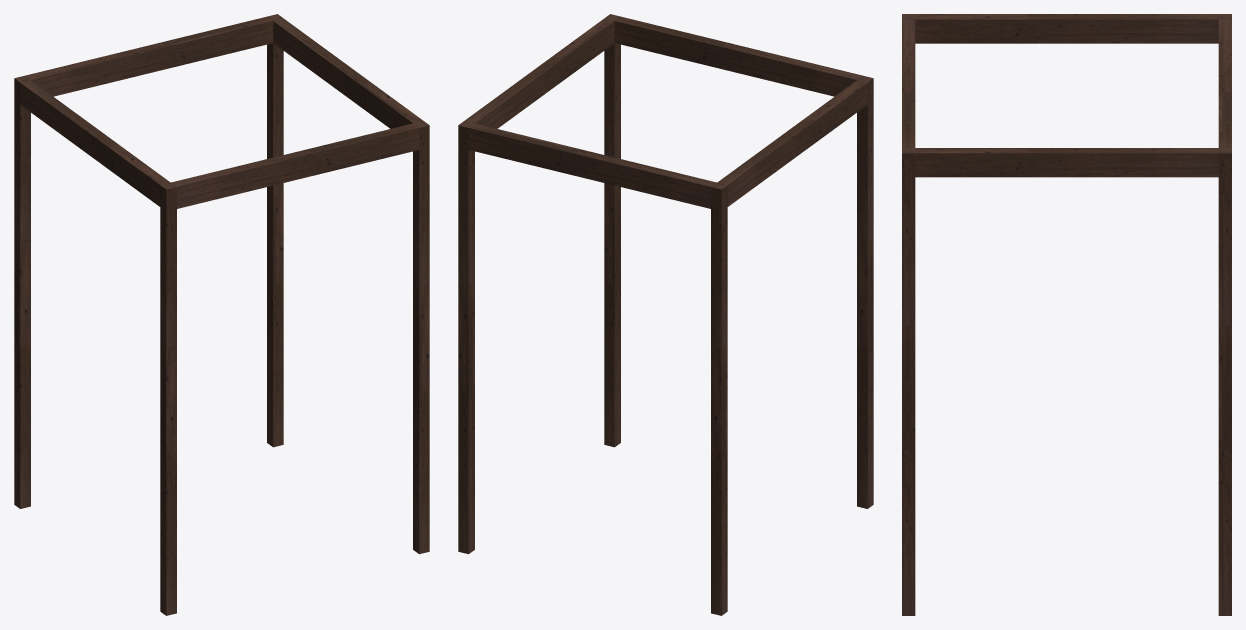
Rendered from fp-dokurtu_1k-6s_darkpine.fbx.
The picture shows the model from 3 angles, left to right: view 1: azimuth 30°, elevation 25°; view 2: azimuth 150°, elevation 25°; view 3: azimuth 270°, elevation 25°; orthographic projection. The views are drawn at different scales.
Visible parts, largest first — view 1: fp-dokurtu_1k-6s_darkpine; view 2: fp-dokurtu_1k-6s_darkpine; view 3: fp-dokurtu_1k-6s_darkpine.
Part boxes in pixels (x1,y1,x2,y2): fp-dokurtu_1k-6s_darkpine: (14, 14, 429, 615); fp-dokurtu_1k-6s_darkpine: (458, 14, 873, 615); fp-dokurtu_1k-6s_darkpine: (902, 14, 1231, 615).
Bounding box in the file's own units: 187 × 290 × 187.
Materials: 1 (1 with a texture image).
